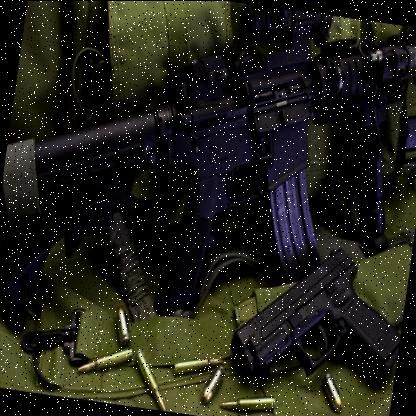rifle: (0, 0, 416, 349), (224, 227, 412, 416)
